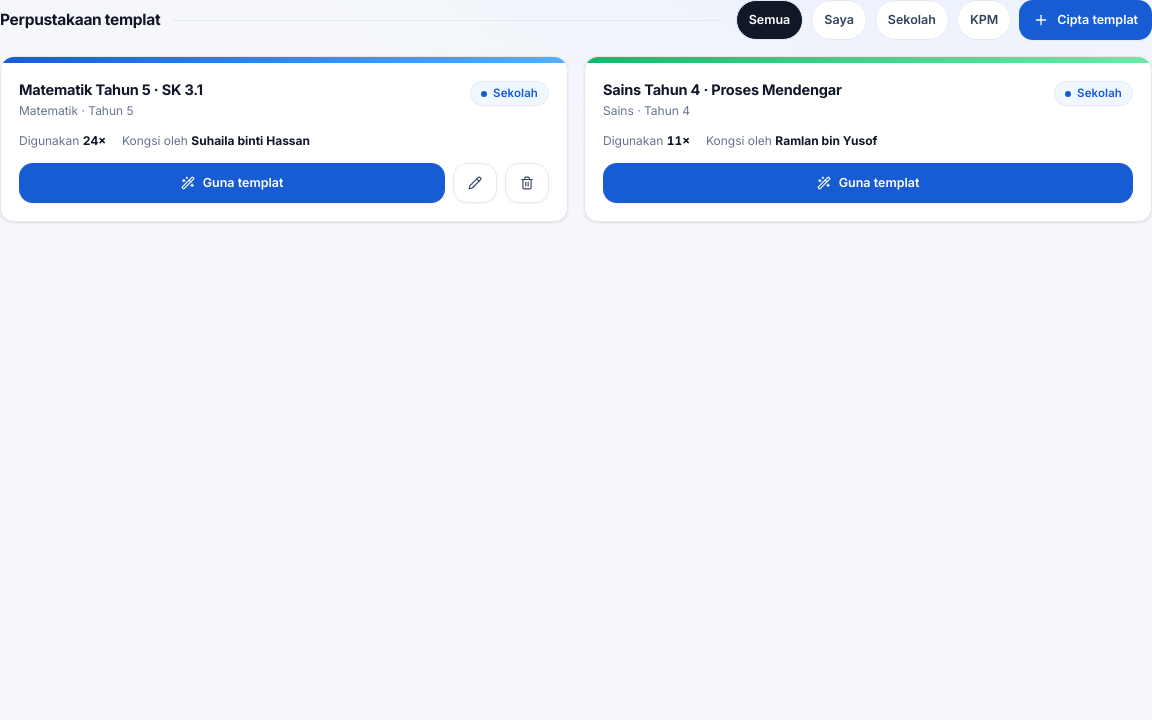
Test: perpustakaan templat › still asks before it deletes
The image size is (1152, 720).
Check: the heading "Matematik Tahun 5 · SK 3.1" is shown, box [19,81,203,99]
Click the button named "Padam Matematik Tahun 5" at (527, 183), box [505,163,549,203]
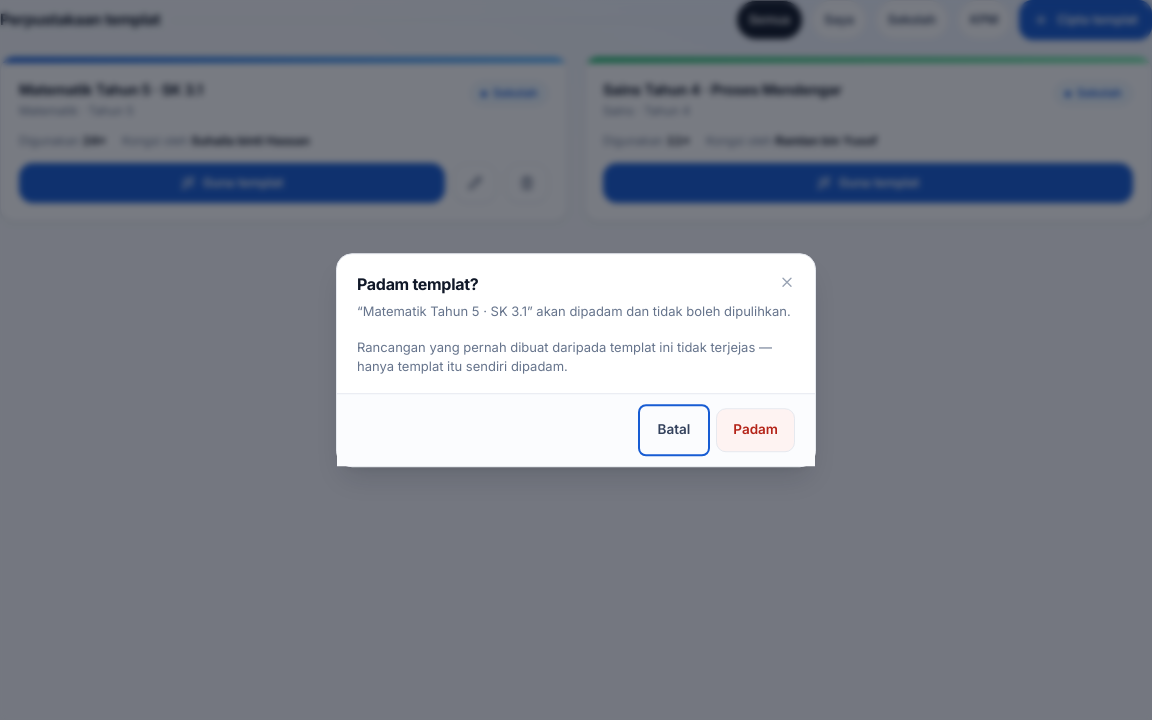
Check: the dialog is shown, box [336,253,816,467]
Check: the text "tidak boleh dipulihkan" is shown, box [357,303,791,319]
